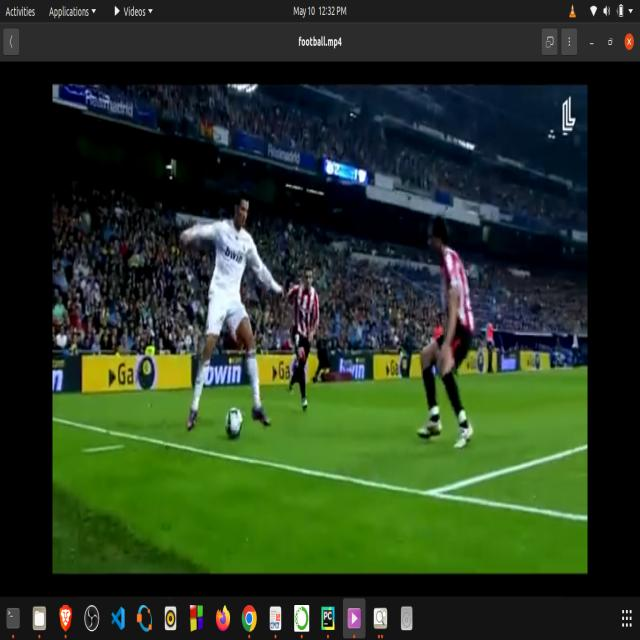Ball: (222, 397, 249, 443)
football-players: (175, 176, 279, 435), (415, 209, 488, 452), (286, 263, 326, 423)
